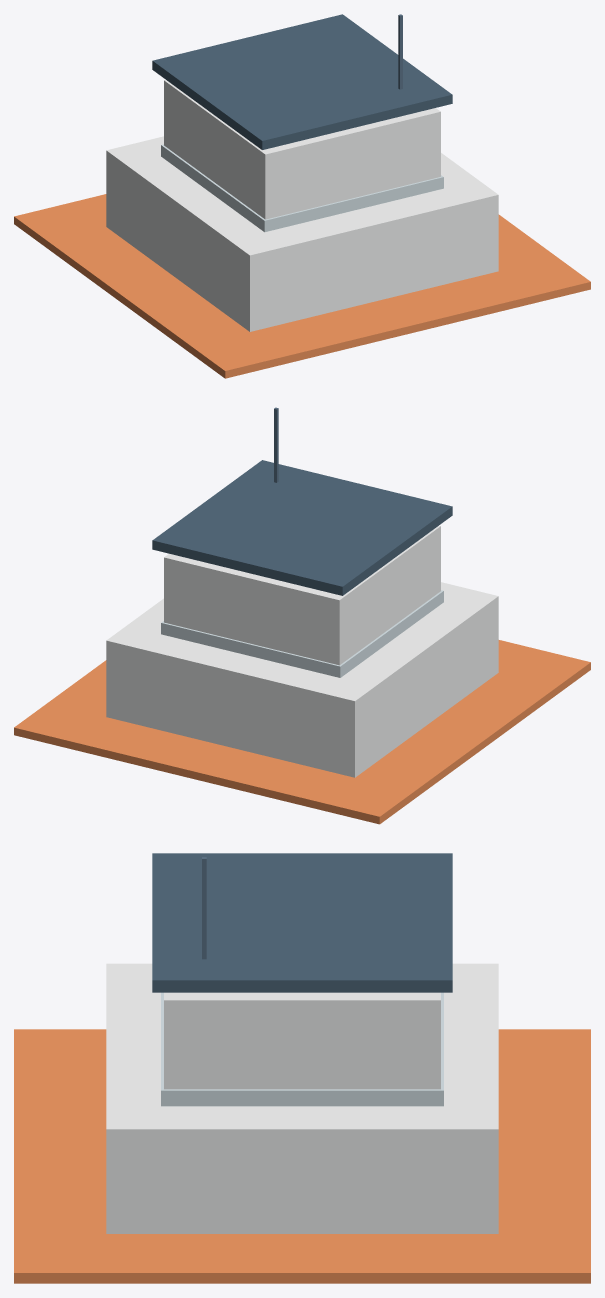
Rendered from hub.glb.
3 renders of one model, top to bottom at view 1: azimuth 30°, elevation 25°; view 2: azimuth 150°, elevation 25°; view 3: azimuth 270°, elevation 25°, orthographic. The views are drawn at different scales.
Parts seen in each view (by area): view 1: hub; view 2: hub; view 3: hub.
Part boxes in pixels (x1,y1,x2,y2): hub: (14, 14, 590, 378); hub: (14, 407, 590, 824); hub: (14, 853, 590, 1283).
Bounding box in the file's own units: 5 × 3.3 × 5.
